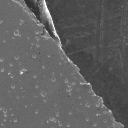corrosion: (18, 18, 26, 26), (13, 29, 21, 36), (40, 89, 47, 97), (84, 102, 91, 109), (49, 115, 56, 122), (19, 68, 27, 74), (33, 29, 40, 35), (65, 122, 72, 128), (60, 55, 66, 62), (31, 53, 37, 59), (95, 101, 101, 107), (32, 74, 37, 80), (14, 55, 20, 60), (10, 84, 16, 89), (2, 108, 8, 113), (66, 87, 72, 92), (41, 64, 46, 70), (85, 116, 90, 122), (64, 78, 69, 84), (71, 80, 76, 86), (34, 109, 39, 115), (102, 118, 107, 124), (51, 77, 56, 82), (35, 42, 40, 47), (68, 110, 73, 115), (85, 82, 90, 87), (12, 118, 18, 122), (8, 63, 14, 67), (46, 54, 52, 58), (1, 56, 5, 62), (1, 67, 5, 73), (7, 71, 11, 76)
